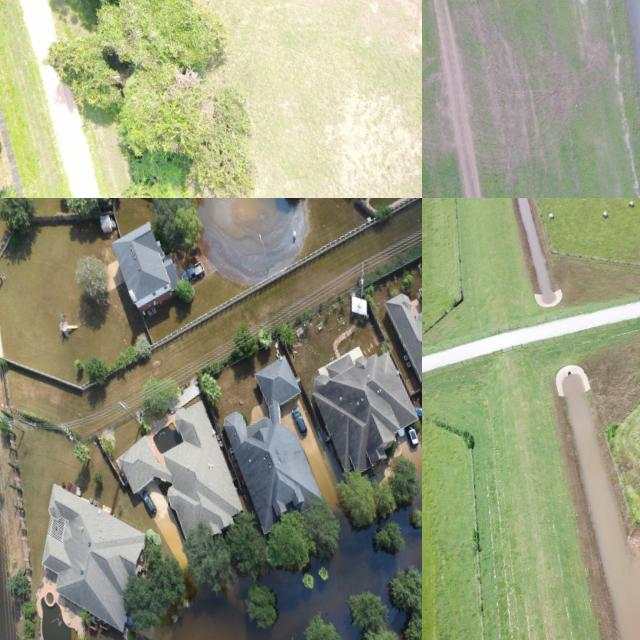fire: (169, 493, 422, 640), (557, 365, 640, 640), (198, 198, 306, 281), (517, 198, 552, 294)
